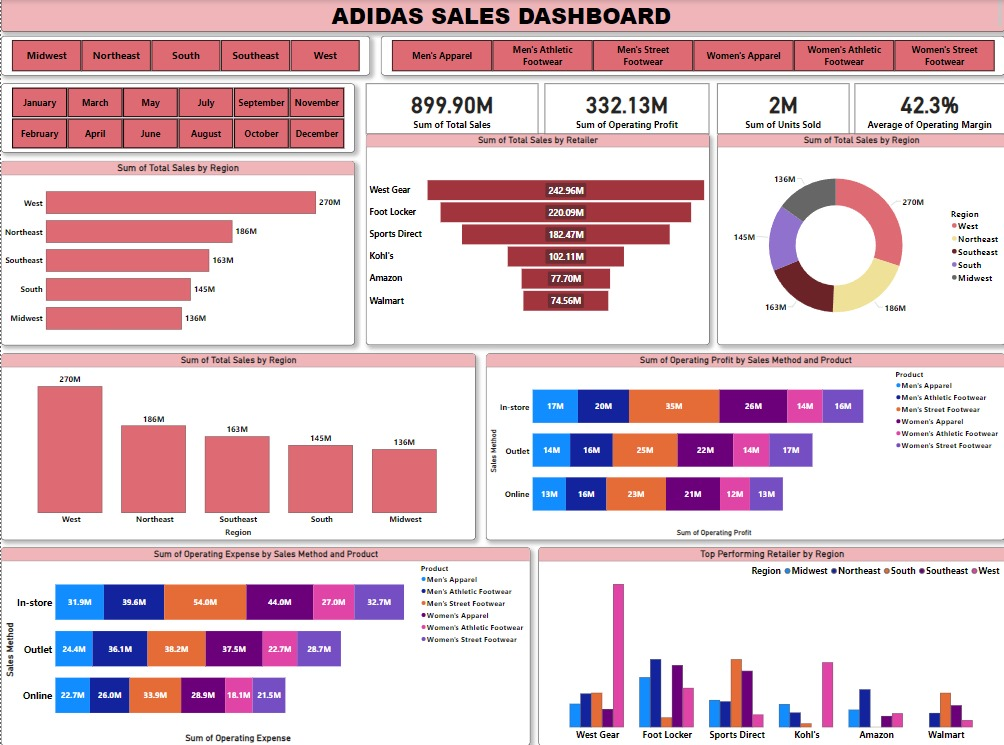

The page's visual inventory and layout, read from the dashboard file:
{"tool":"powerbi","page":{"name":"Page 1","canvas":[2700,2000],"ordinal":0},"visuals":[{"type":"textbox","box":[0,0,2677.3,95.5],"z":0},{"type":"columnChart","fields":{"Y":["Sum(TBL.Total Sales)"],"Category":["TBL.Region"]},"box":[0,954.5,1265.9,497.7],"z":1000},{"type":"barChart","fields":{"Category":["TBL.Region"],"Y":["Sum(TBL.Total Sales)"]},"box":[0,440.9,943.2,490.9],"z":2000},{"type":"clusteredColumnChart","title":"Top Performing Retailer by Region","fields":{"Category":["TBL.Retailer"],"Series":["TBL.Region"],"Y":["Sum(TBL.Total Sales)"]},"box":[1431.8,1470.5,1245.5,529.5],"z":3000},{"type":"slicer","fields":{"Values":["TBL.Region"]},"box":[0,106.8,984.1,104.5],"z":4000},{"type":"funnel","fields":{"Category":["TBL.Retailer"],"Y":["Sum(TBL.Total Sales)"]},"box":[972.7,368.2,915.9,563.6],"z":5000},{"type":"barChart","title":"Sum of Operating Expense by Sales Method and Product","fields":{"Category":["TBL.Sales Method"],"Series":["TBL.Product"],"Y":["Sum(TBL.Operating Expense)"]},"box":[0,1470.5,1411.4,529.5],"z":6000},{"type":"donutChart","fields":{"Category":["TBL.Region"],"Y":["Sum(TBL.Total Sales)"]},"box":[1909.1,368.2,768.2,563.6],"z":7000},{"type":"barChart","fields":{"Category":["TBL.Sales Method"],"Series":["TBL.Product"],"Y":["Sum(TBL.Operating Profit)"]},"box":[1293.2,954.5,1384.1,497.7],"z":8000},{"type":"slicer","fields":{"Values":["TBL.Product"]},"box":[1013.6,106.8,1663.6,104.5],"z":9000},{"type":"slicer","fields":{"Values":["TBL.Invoice Date.Variation.Date Hierarchy.Month"]},"box":[0,234.1,943.2,184.1],"z":9001},{"type":"card","fields":{"Values":["Sum(TBL.Total Sales)"]},"box":[972.7,234.1,459.1,134.1],"z":9002},{"type":"card","fields":{"Values":["Sum(TBL.Operating Profit)"]},"box":[1450,234.1,438.6,134.1],"z":9003},{"type":"card","fields":{"Values":["Sum(TBL.Units Sold)"]},"box":[1909.1,234.1,352.3,134.1],"z":9004},{"type":"card","fields":{"Values":["Avg(TBL.Operating Margin)"]},"box":[2277.3,234.1,400,134.1],"z":9005}]}

Visuals, with their boxes in screenshot pixels (x1, y1, x2, y2), scaled from the page's 2700x2000 canvas onto the 1004x745 screenshot:
textbox: (left=0, top=0, right=996, bottom=36)
columnChart - Sum(TBL.Total Sales) x TBL.Region: (left=0, top=356, right=471, bottom=541)
barChart - TBL.Region x Sum(TBL.Total Sales): (left=0, top=164, right=351, bottom=347)
"Top Performing Retailer by Region" clusteredColumnChart: (left=532, top=548, right=996, bottom=744)
slicer - TBL.Region: (left=0, top=40, right=366, bottom=79)
funnel - TBL.Retailer x Sum(TBL.Total Sales): (left=362, top=137, right=702, bottom=347)
"Sum of Operating Expense by Sales Method and Product" barChart: (left=0, top=548, right=525, bottom=744)
donutChart - TBL.Region x Sum(TBL.Total Sales): (left=710, top=137, right=996, bottom=347)
barChart - TBL.Sales Method x TBL.Product: (left=481, top=356, right=996, bottom=541)
slicer - TBL.Product: (left=377, top=40, right=996, bottom=79)
slicer - TBL.Invoice Date.Variation.Date Hierarchy.Month: (left=0, top=87, right=351, bottom=156)
card - Sum(TBL.Total Sales): (left=362, top=87, right=532, bottom=137)
card - Sum(TBL.Operating Profit): (left=539, top=87, right=702, bottom=137)
card - Sum(TBL.Units Sold): (left=710, top=87, right=841, bottom=137)
card - Avg(TBL.Operating Margin): (left=847, top=87, right=996, bottom=137)
